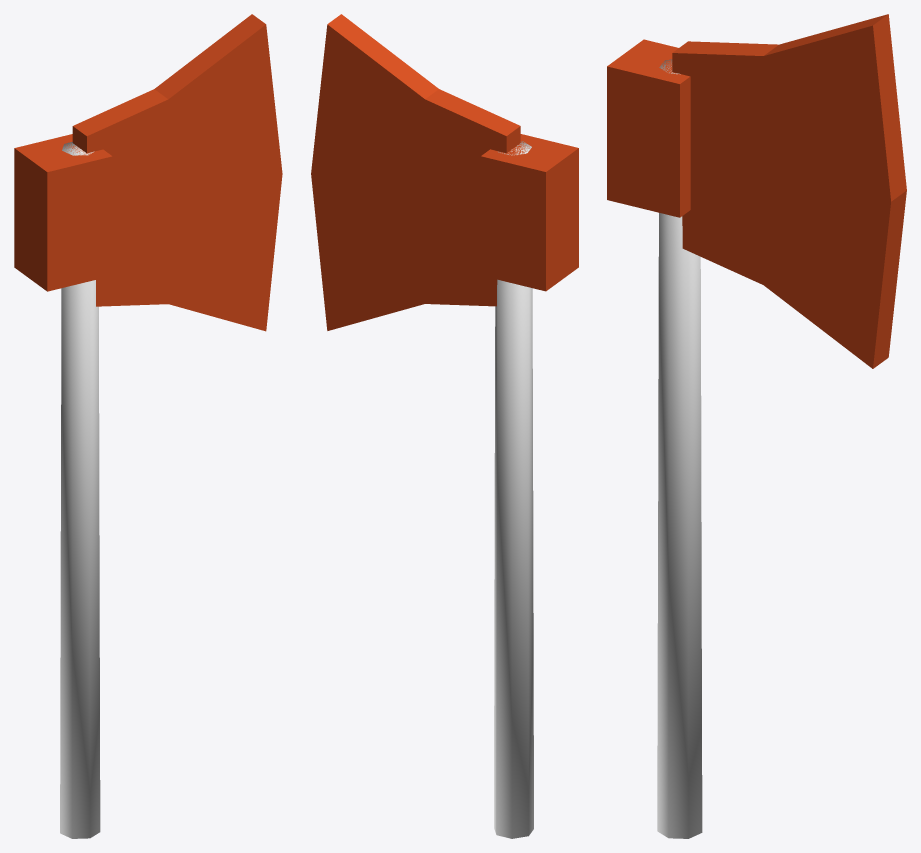
The model's file is hellstone_axe.glb.
3 views of the same model, side by side, from view 1: azimuth 30°, elevation 25°; view 2: azimuth 150°, elevation 25°; view 3: azimuth 330°, elevation 25° (orthographic). The views are drawn at different scales.
Visible parts, largest first — view 1: hellstone_axe_v0; view 2: hellstone_axe_v0; view 3: hellstone_axe_v0.
Part boxes in pixels (x1,y1,x2,y2): hellstone_axe_v0: (14,14,282,838); hellstone_axe_v0: (311,14,578,838); hellstone_axe_v0: (607,14,906,838).
Bounding box in the file's own units: 0.3 × 0.9 × 0.07.
